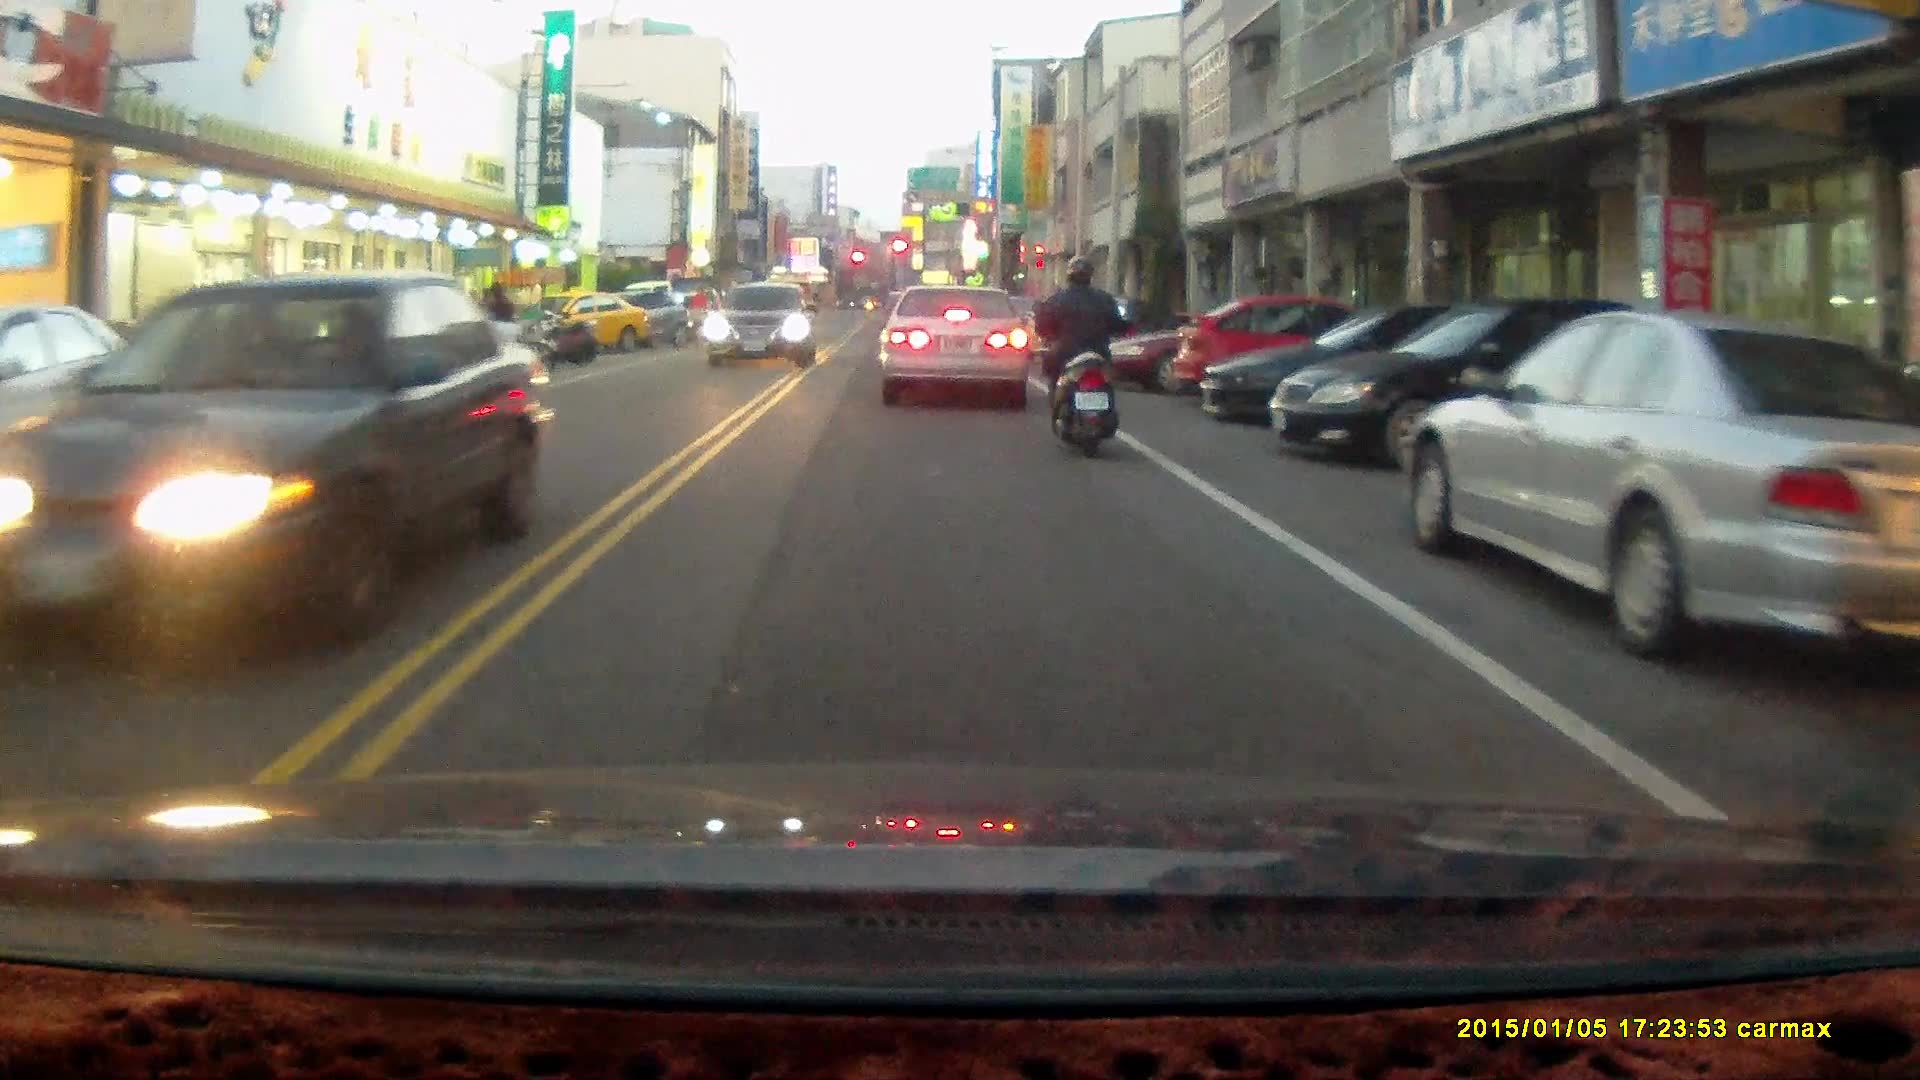pedestrian: (483, 280, 517, 331)
rider: (1033, 252, 1128, 459), (685, 287, 715, 357)
vehicle: (1, 275, 553, 651), (1403, 311, 1920, 660), (1268, 297, 1654, 468), (1197, 307, 1570, 432), (0, 305, 133, 522), (1168, 298, 1396, 412), (877, 284, 1031, 411), (707, 281, 819, 372), (524, 288, 648, 361)
